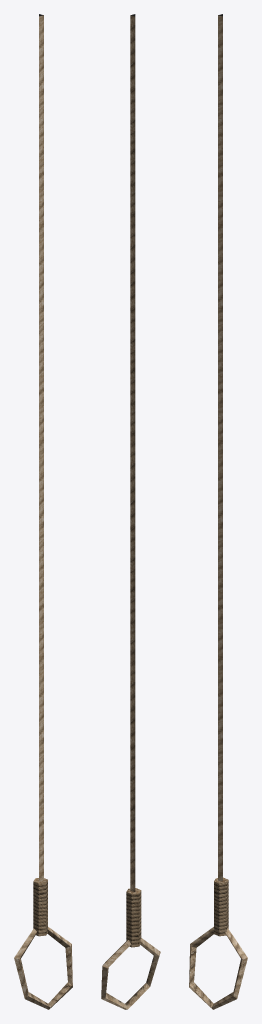
File: Rope.fbx
3 renders of one model, left to right at view 1: azimuth 30°, elevation 25°; view 2: azimuth 210°, elevation 25°; view 3: azimuth 330°, elevation 25°, orthographic.
Parts seen in each view (by area): view 1: Rope; view 2: Rope; view 3: Rope.
Boxes of the visible parts, x1=… form: Rope: x1=14, y1=14, x2=72, y2=1009; Rope: x1=101, y1=14, x2=160, y2=1009; Rope: x1=189, y1=14, x2=247, y2=1009.
Size of the model in its own units: 19.62 by 321 by 7.91.
1 material, 1 textured.
